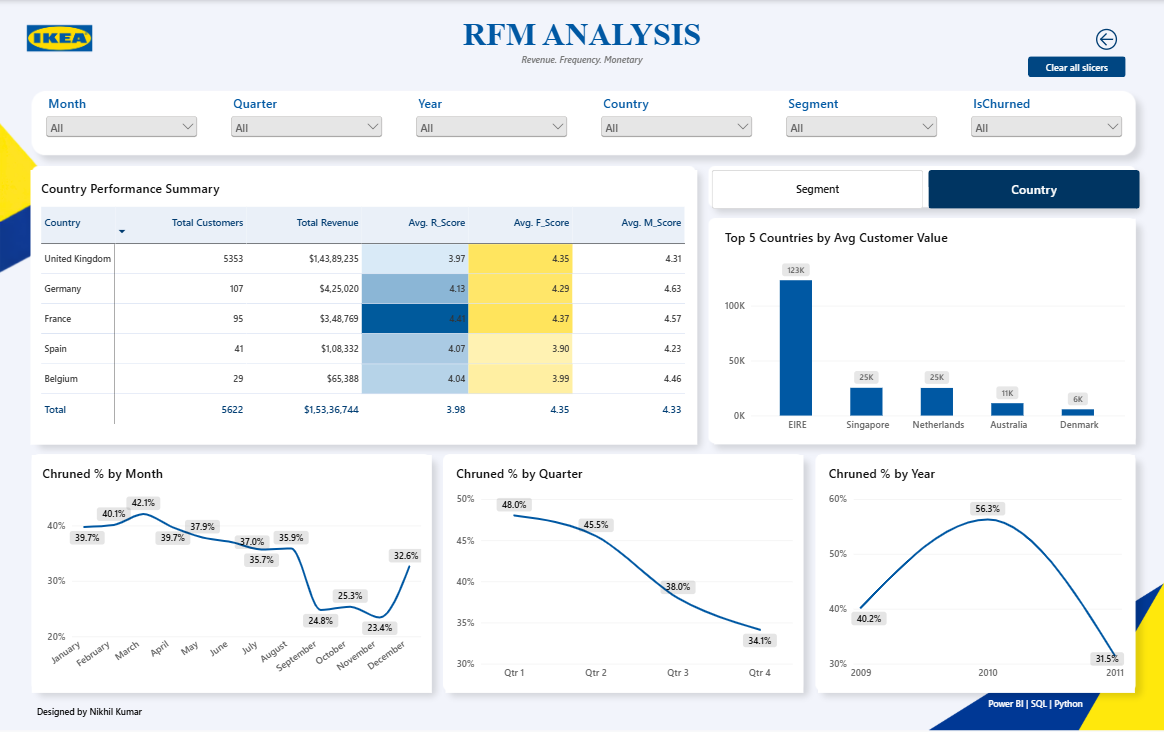

This screenshot's page, from the dashboard's own definition file:
{"tool":"powerbi","page":{"name":"RFM Analysis","canvas":[1750,1100],"ordinal":1},"visuals":[{"type":"slicer","fields":{"Values":["Sheet1.InvoiceDate.Variation.Date Hierarchy.Month"]},"box":[67.5,142.5,236.2,80.6],"z":0},{"type":"slicer","fields":{"Values":["Sheet1.InvoiceDate.Variation.Date Hierarchy.Quarter"]},"box":[345,142.6,236.2,80.6],"z":1000},{"type":"slicer","fields":{"Values":["Sheet1.InvoiceDate.Variation.Date Hierarchy.Year"]},"box":[622.6,142.6,236.2,80.6],"z":2000},{"type":"lineChart","fields":{"Category":["Sheet1.InvoiceDate.Variation.Date Hierarchy.Month"],"Y":["Sheet1.Chruned %"]},"box":[50,681.7,600,356.7],"z":2000,"group":"g1"},{"type":"slicer","fields":{"Values":["Sheet1.Country"]},"box":[900.1,142.6,236.2,80.6],"z":3000},{"type":"lineChart","fields":{"Category":["Sheet1.InvoiceDate.Variation.Date Hierarchy.Quarter"],"Y":["Sheet1.Chruned %"]},"box":[670.8,681.7,536.7,356.7],"z":3000,"group":"g1"},{"type":"slicer","fields":{"Values":["Sheet1.Segment"]},"box":[1177.7,142.6,236.2,80.6],"z":4000},{"type":"lineChart","fields":{"Category":["Sheet1.InvoiceDate.Variation.Date Hierarchy.Year"],"Y":["Sheet1.Chruned %"]},"box":[1228.3,681.7,475,356.7],"z":4000,"group":"g1"},{"type":"slicer","fields":{"Values":["Sheet1.IsChurned"]},"box":[1455.2,142.6,236.2,80.6],"z":5000},{"type":"group","id":"g1","title":"Revenue","box":[50,681.7,1653.3,356.7],"z":6000},{"type":"bookmarkNavigator","box":[1069.8,255.1,643.3,59],"z":8000},{"type":"textbox","box":[57.6,1057.5,513,42.5],"z":9000},{"type":"image","box":[0,15.1,185.2,85],"z":10000},{"type":"textbox","box":[49.4,24.7,1654.1,118],"z":11000},{"type":"textbox","box":[1444.3,1046.5,224.9,32.9],"z":12000},{"type":"actionButton","box":[1613,37,100,40],"z":13000},{"type":"actionButton","box":[1544.4,83.7,146.8,31.5],"z":14000},{"type":"pivotTable","title":"Segment Performance Summary","fields":{"Rows":["Sheet1.Segment"],"Values":["Sheet1.Total Customers","Sheet1.Total Revenue","Avg(Sheet1.R_Score)","Avg(Sheet1.F_Score)","Avg(Sheet1.M_Score)"]},"box":[48,255.1,999.9,411.5],"z":15000},{"type":"columnChart","title":"Segment by Avg Customer Value","fields":{"Category":["Sheet1.Segment"],"Y":["Sheet1.Avg Customer Value"]},"box":[1072.6,327.8,632.3,338.8],"z":15001}]}

Visuals, with their boxes in screenshot pixels (x1, y1, x2, y2), scaled from the page's 1750x1100 canvas onto the 1164x732 screenshot:
slicer - Sheet1.InvoiceDate.Variation.Date Hierarchy.Month: [45,95,202,148]
slicer - Sheet1.InvoiceDate.Variation.Date Hierarchy.Quarter: [229,95,387,149]
slicer - Sheet1.InvoiceDate.Variation.Date Hierarchy.Year: [414,95,571,149]
lineChart - Sheet1.InvoiceDate.Variation.Date Hierarchy.Month x Sheet1.Chruned %: [33,454,432,691]
slicer - Sheet1.Country: [599,95,756,149]
lineChart - Sheet1.InvoiceDate.Variation.Date Hierarchy.Quarter x Sheet1.Chruned %: [446,454,803,691]
slicer - Sheet1.Segment: [783,95,940,149]
lineChart - Sheet1.InvoiceDate.Variation.Date Hierarchy.Year x Sheet1.Chruned %: [817,454,1133,691]
slicer - Sheet1.IsChurned: [968,95,1125,149]
"Revenue" group: [33,454,1133,691]
bookmarkNavigator: [712,170,1139,209]
textbox: [38,704,380,731]
image: [0,10,123,67]
textbox: [33,16,1133,95]
textbox: [961,696,1110,718]
actionButton: [1073,25,1139,51]
actionButton: [1027,56,1125,77]
"Segment Performance Summary" pivotTable: [32,170,697,444]
"Segment by Avg Customer Value" columnChart: [713,218,1134,444]
